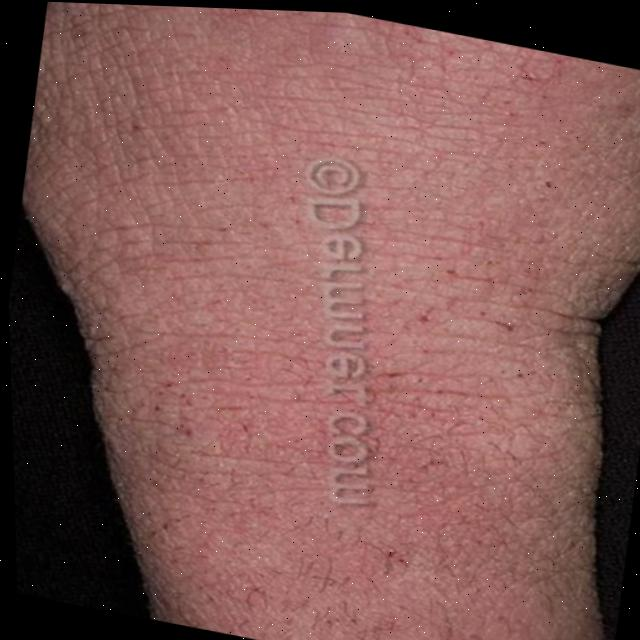Eczema: (165, 6, 634, 592)
